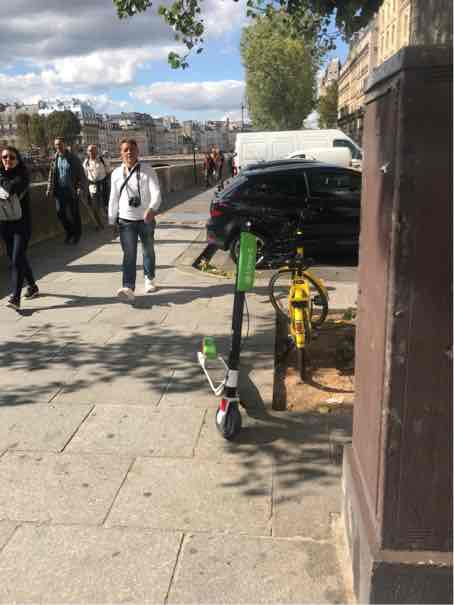scooter: (190, 207, 292, 441)
